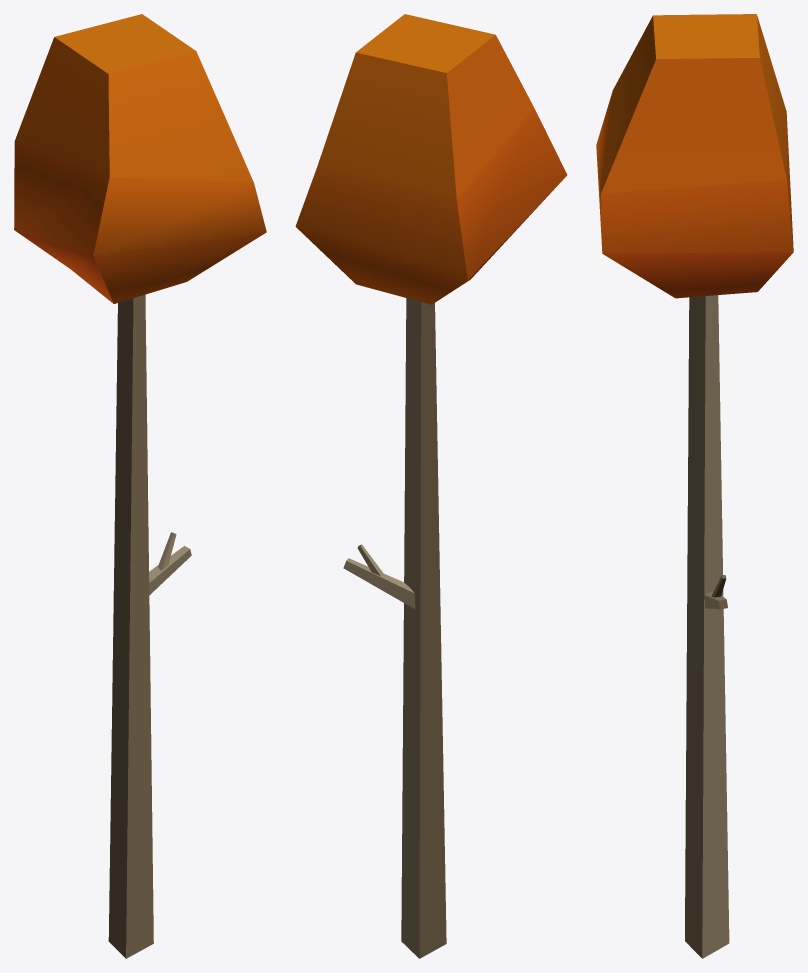
File: SF_Env_Tree_Tall_Fall_02.fbx
3 renders of one model, left to right at view 1: azimuth 30°, elevation 25°; view 2: azimuth 150°, elevation 25°; view 3: azimuth 270°, elevation 25°, orthographic.
Visible parts, largest first — view 1: SF_Env_Tree_Tall_Fall_02; view 2: SF_Env_Tree_Tall_Fall_02; view 3: SF_Env_Tree_Tall_Fall_02.
Boxes of the visible parts, x1,y1,x2,y2 form: SF_Env_Tree_Tall_Fall_02: (14,14,266,958); SF_Env_Tree_Tall_Fall_02: (295,14,567,958); SF_Env_Tree_Tall_Fall_02: (596,14,793,958).
Bounding box in the file's own units: 2.02 × 9.87 × 1.94.
